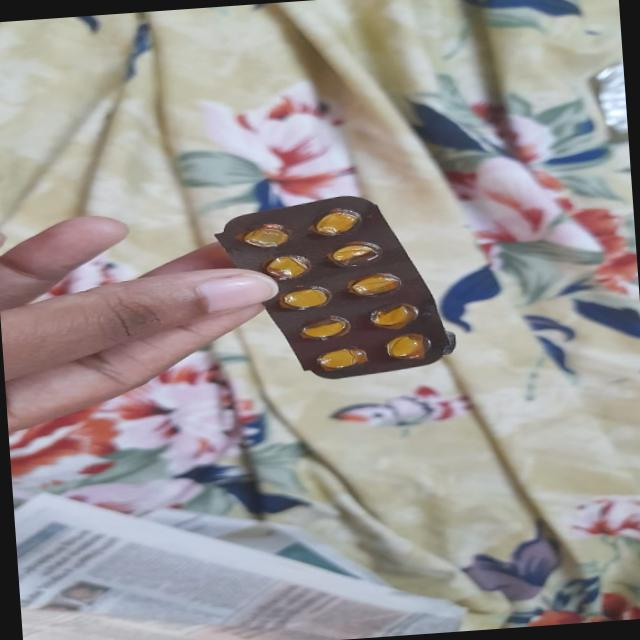Blister_Packs - Non Recyclable: (208, 187, 462, 388)
